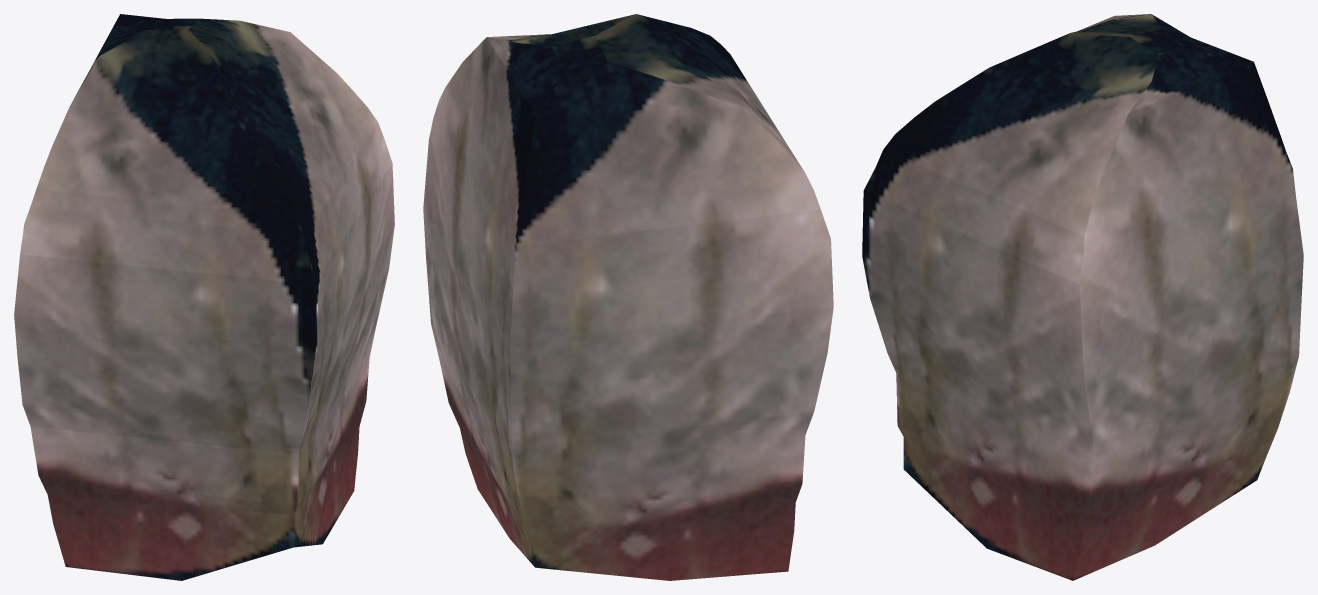
The picture shows the model from 3 angles, left to right: view 1: azimuth 30°, elevation 25°; view 2: azimuth 150°, elevation 25°; view 3: azimuth 270°, elevation 25°; orthographic projection. The views are drawn at different scales.
Visible parts, largest first — view 1: SPLICE_1; view 2: SPLICE_1; view 3: SPLICE_1.
Boxes of the visible parts, x1,y1,x2,y2 form: SPLICE_1: (14,14,394,580); SPLICE_1: (423,14,833,580); SPLICE_1: (862,14,1303,580).
Bounding box in the file's own units: 1.55 × 1.87 × 1.55.
1 material, 1 textured.
